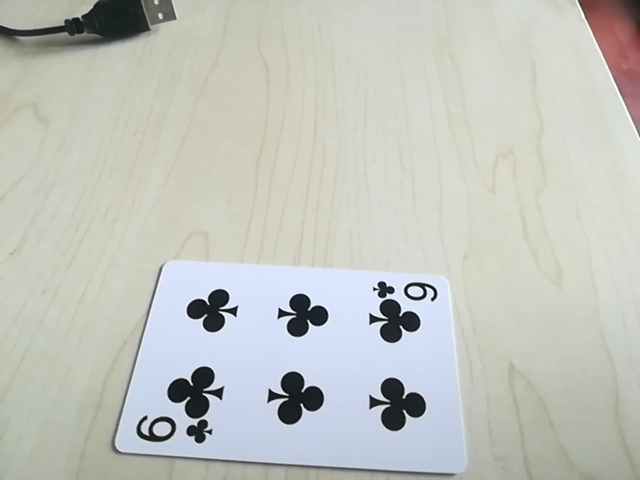mh 6: (130, 416, 215, 454), (374, 277, 441, 307)
